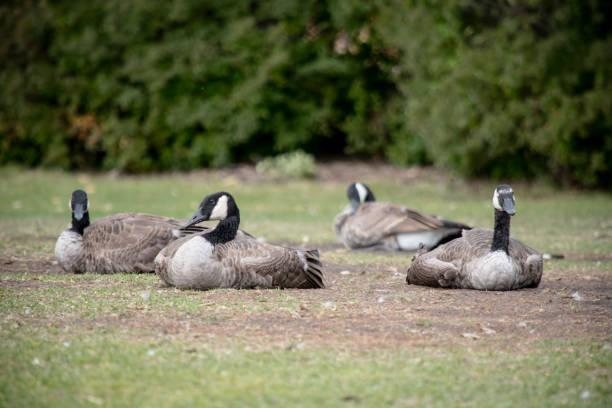Canadian-Goose: (156, 191, 322, 286), (404, 185, 547, 294), (55, 190, 190, 274), (331, 181, 462, 253)
